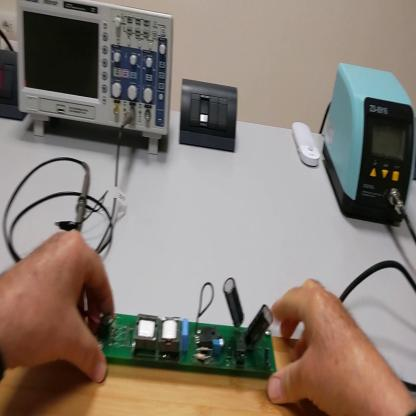hand: (5, 228, 114, 387), (266, 279, 393, 411)
high voltage board: (84, 276, 280, 373)
oscilloscope: (18, 3, 175, 162)
socket: (2, 49, 28, 126)
welder station: (323, 60, 415, 227)
working area: (2, 316, 328, 416)
